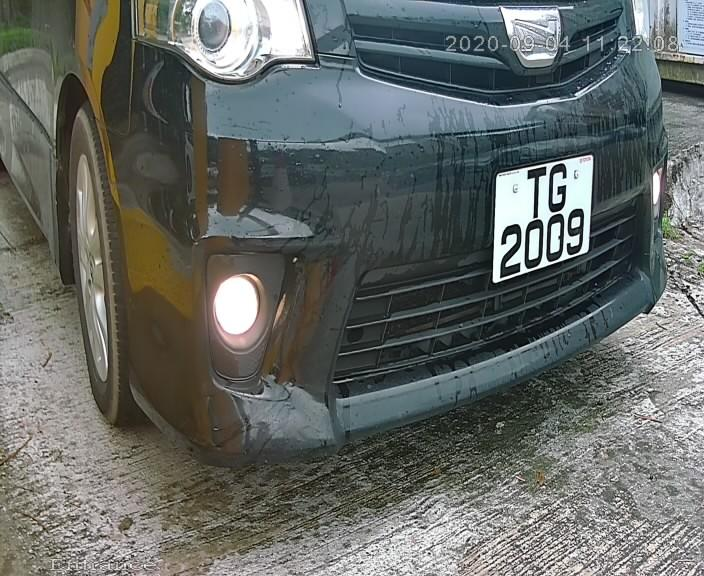License Plate: (485, 142, 601, 294)
